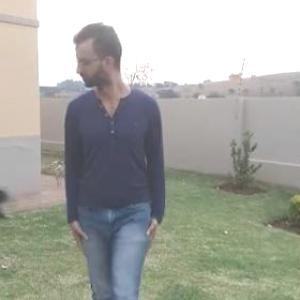follow: (59, 12, 163, 294)
